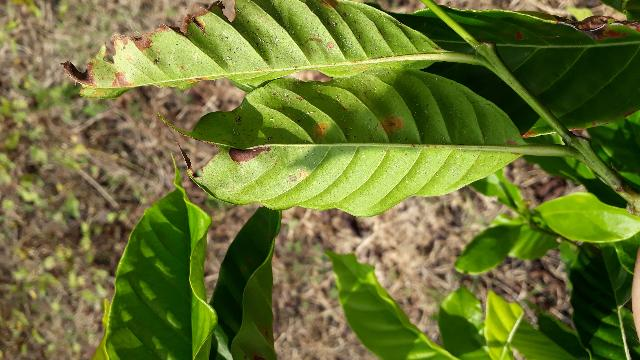rust_level_1: (86, 135, 488, 290)
